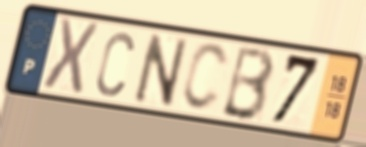7: (267, 52, 324, 127)
B: (218, 44, 278, 124)
C: (179, 40, 231, 114), (94, 28, 137, 99)
N: (131, 30, 191, 109)
X: (39, 15, 102, 96)
